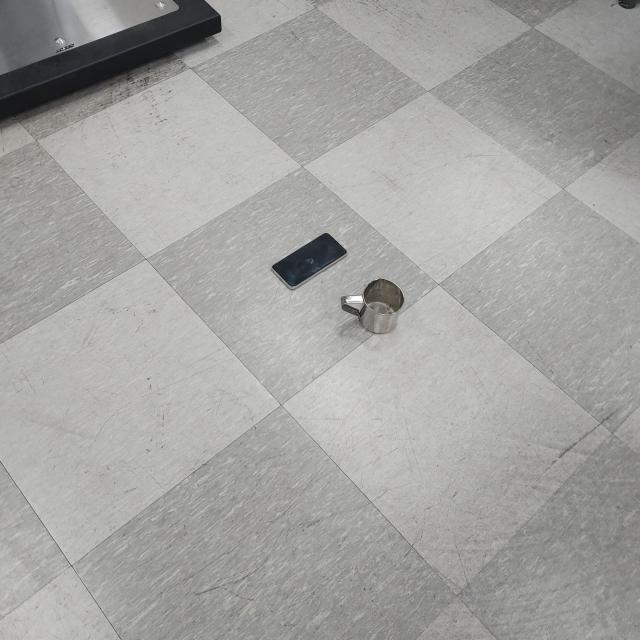cup: (344, 277, 403, 334)
phone: (270, 234, 350, 288)
